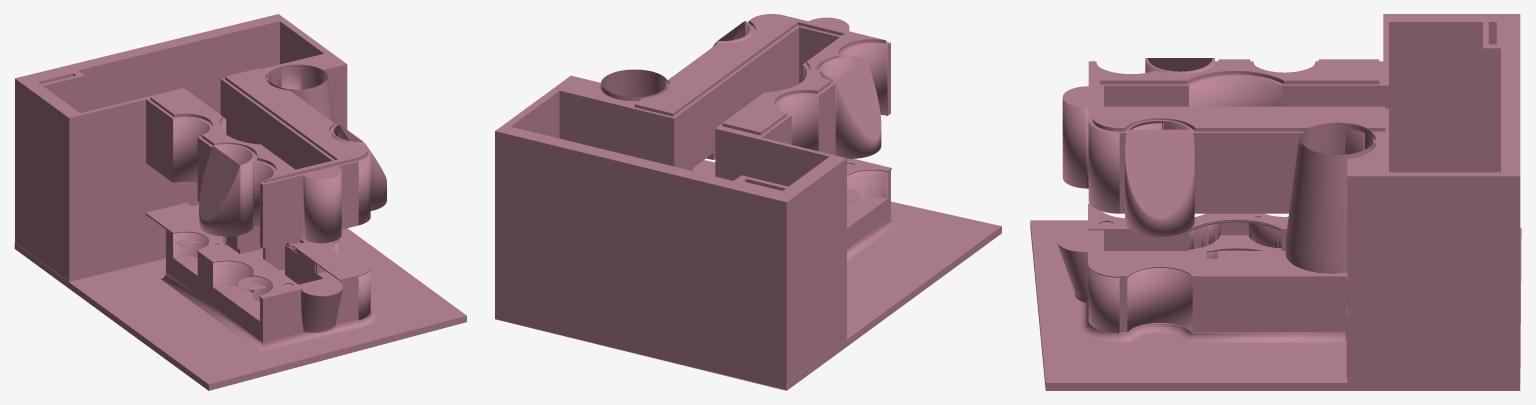
Rendered from asset.glb.
3 views of the same model, side by side, from view 1: azimuth 30°, elevation 25°; view 2: azimuth 150°, elevation 25°; view 3: azimuth 270°, elevation 25° (orthographic). The views are drawn at different scales.
Parts seen in each view (by area): view 1: the final model; view 2: the final model; view 3: the final model.
Boxes of the visible parts, bbox=[...] form: the final model: bbox=[14, 14, 466, 390]; the final model: bbox=[495, 14, 1001, 390]; the final model: bbox=[1030, 14, 1521, 390].
Size of the model in its own units: 4.98 by 3.12 by 6.36.
